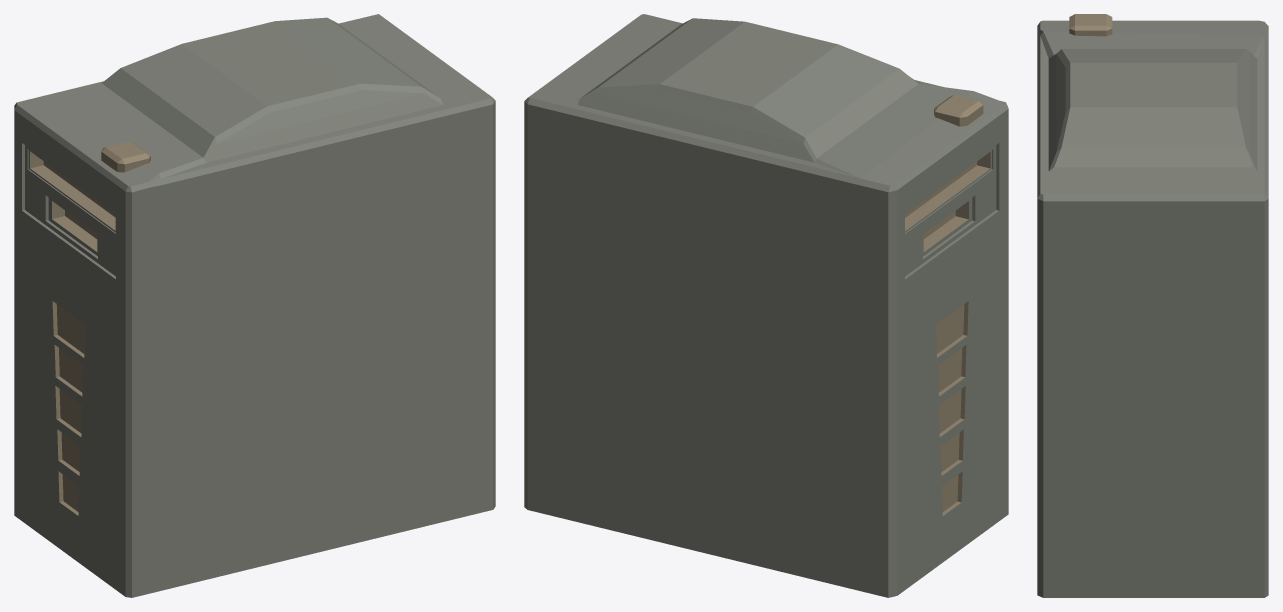
The model's file is computer.fbx.
The picture shows the model from 3 angles, left to right: view 1: azimuth 30°, elevation 25°; view 2: azimuth 150°, elevation 25°; view 3: azimuth 270°, elevation 25°; orthographic projection. The views are drawn at different scales.
Parts seen in each view (by area): view 1: Computer, Button1; view 2: Computer, Button1; view 3: Computer, Button1.
Boxes of the visible parts, box(x1,y1,x2,y2) form: Computer: box(14, 14, 495, 597); Button1: box(101, 141, 150, 172); Computer: box(524, 14, 1008, 597); Button1: box(934, 95, 983, 126); Computer: box(1037, 20, 1268, 597); Button1: box(1069, 14, 1112, 36).
Bounding box in the file's own units: 357 × 407 × 197.
